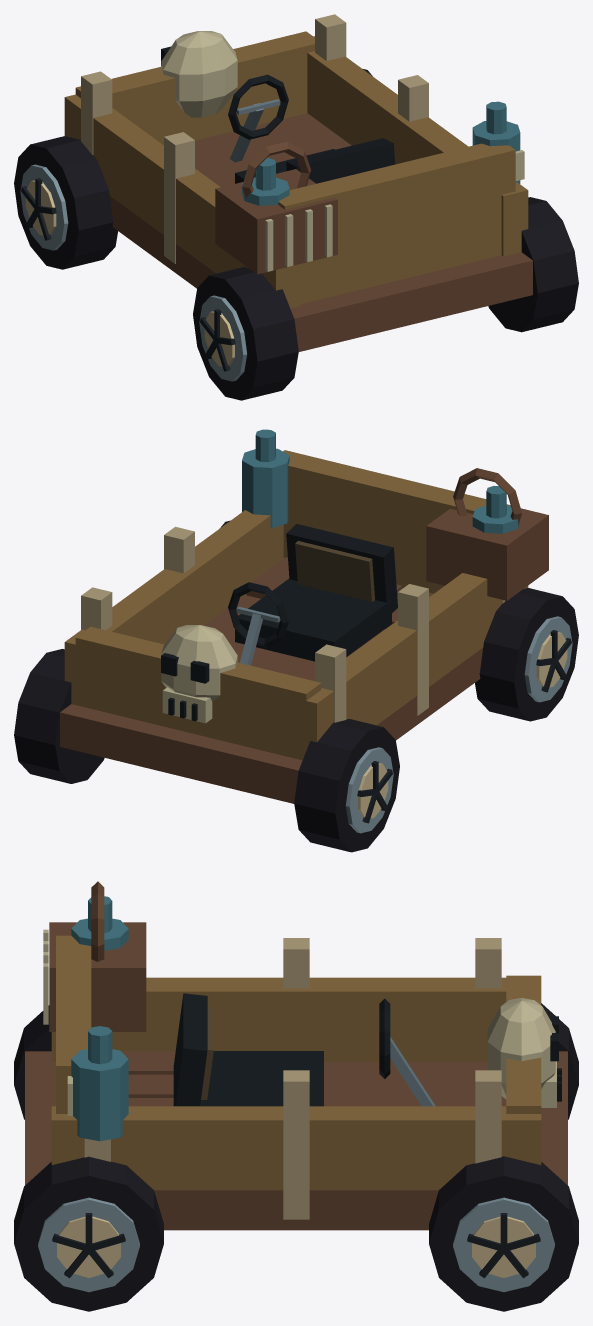
Rendered from kart.glb.
The picture shows the model from 3 angles, top to bottom: view 1: azimuth 30°, elevation 25°; view 2: azimuth 150°, elevation 25°; view 3: azimuth 270°, elevation 25°; orthographic projection. The views are drawn at different scales.
Visible parts, largest first — view 1: identity-wagon-wagon-timber-coach, wheel-rear-left, wheel-front-left, identity-wagon-motif-basket, wheel-rear-right, identity-wagon-driver-cockpit, identity-wagon-motif-skull, identity-wagon-motif-bottles; view 2: identity-wagon-wagon-timber-coach, identity-wagon-driver-cockpit, wheel-front-left, wheel-rear-left, identity-wagon-motif-basket, wheel-front-right, identity-wagon-motif-skull, identity-wagon-motif-bottles; view 3: identity-wagon-wagon-timber-coach, wheel-rear-right, wheel-front-right, identity-wagon-driver-cockpit, identity-wagon-motif-basket, identity-wagon-motif-bottles, identity-wagon-motif-skull, wheel-rear-left, wheel-front-left.
Part boxes in pixels (x1,y1,x2,y2): identity-wagon-wagon-timber-coach: [64, 14, 532, 351]; wheel-rear-left: [193, 267, 298, 400]; wheel-front-left: [14, 136, 117, 269]; identity-wagon-motif-basket: [215, 141, 337, 274]; wheel-rear-right: [488, 197, 578, 332]; identity-wagon-driver-cockpit: [228, 74, 395, 183]; identity-wagon-motif-skull: [161, 31, 237, 117]; identity-wagon-motif-bottles: [242, 101, 524, 205]; identity-wagon-wagon-timber-coach: [60, 450, 528, 803]; identity-wagon-driver-cockpit: [228, 524, 397, 665]; wheel-front-left: [294, 719, 399, 852]; wheel-rear-left: [475, 588, 578, 721]; identity-wagon-motif-basket: [426, 468, 548, 600]; wheel-front-right: [14, 649, 104, 783]; identity-wagon-motif-skull: [161, 625, 237, 723]; identity-wagon-motif-bottles: [242, 429, 520, 533]; identity-wagon-wagon-timber-coach: [25, 935, 567, 1230]; wheel-rear-right: [14, 1156, 163, 1311]; wheel-front-right: [429, 1156, 578, 1311]; identity-wagon-driver-cockpit: [173, 993, 435, 1106]; identity-wagon-motif-basket: [43, 881, 146, 1031]; identity-wagon-motif-bottles: [67, 896, 128, 1141]; identity-wagon-motif-skull: [487, 998, 561, 1107]; wheel-rear-left: [14, 1005, 51, 1119]; wheel-front-left: [541, 1003, 578, 1119].
Size of the model in its own units: 2.07 by 1.37 by 2.56.
